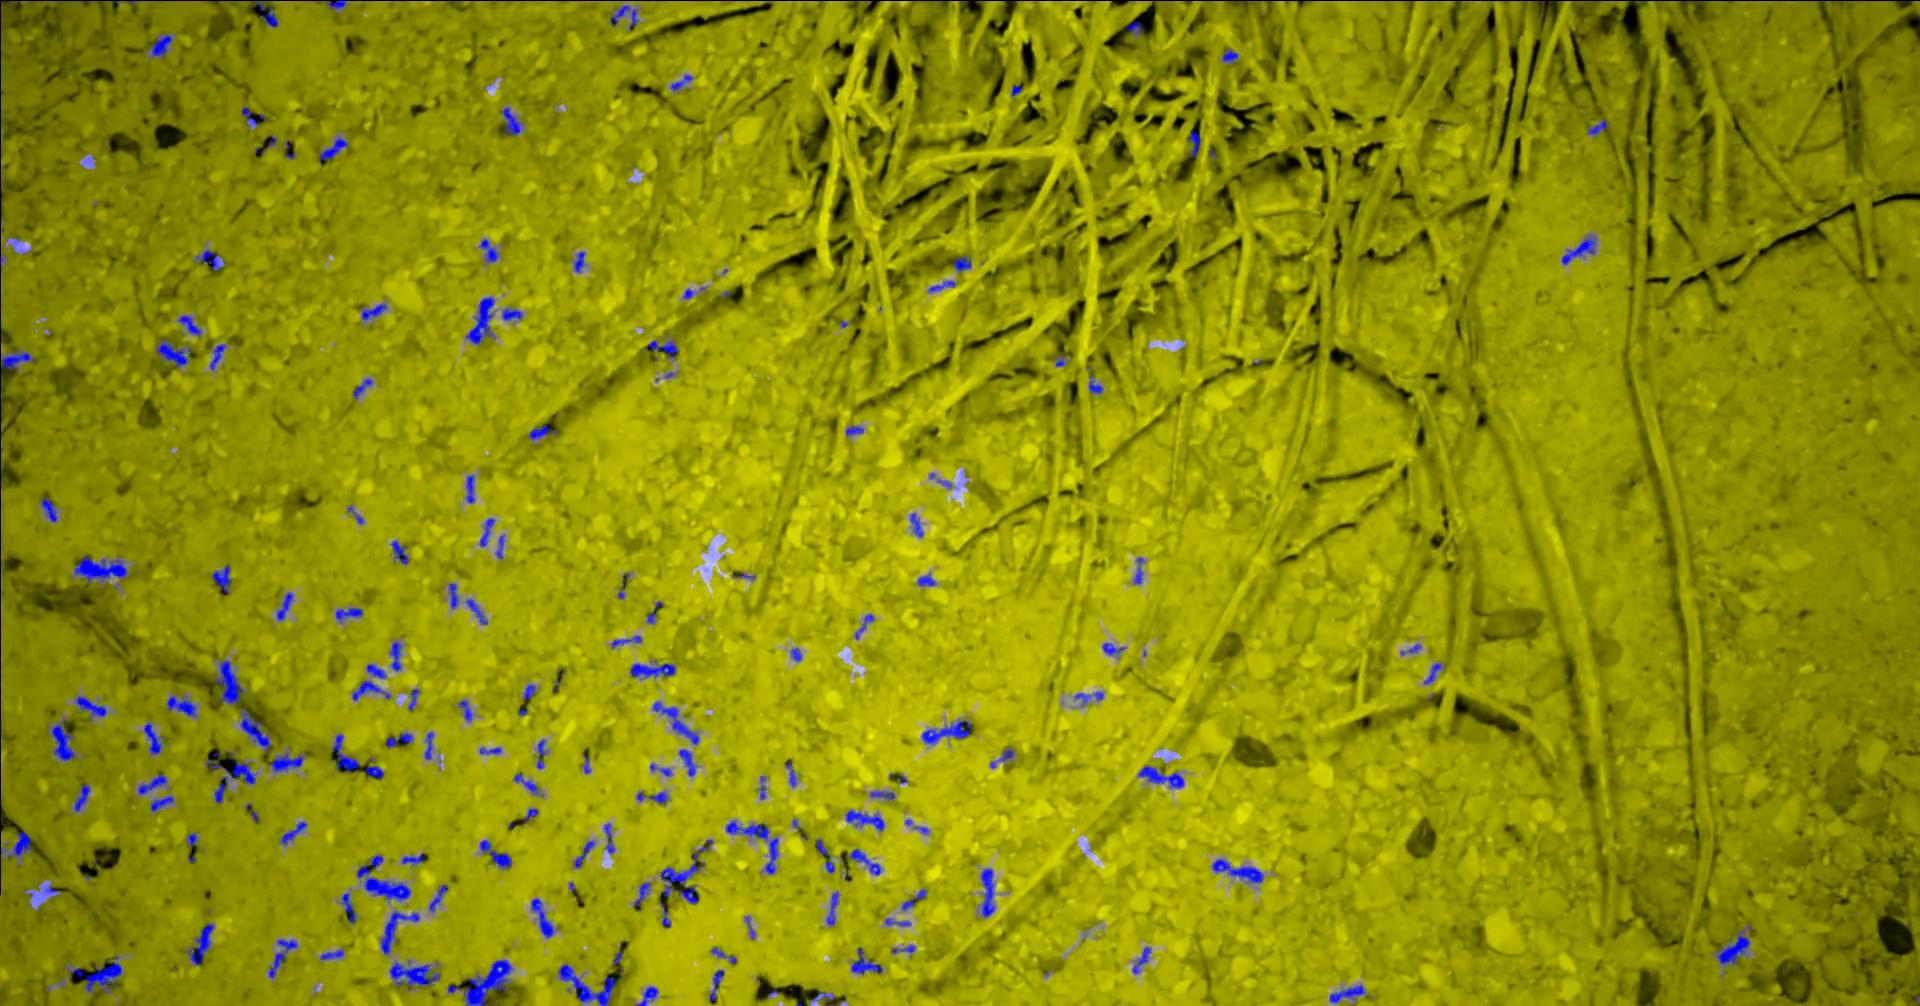ant: (662, 840, 714, 903), (207, 752, 257, 803), (560, 963, 620, 1005), (358, 855, 411, 901), (465, 959, 514, 1005), (70, 955, 124, 992), (654, 701, 700, 744), (382, 909, 422, 954), (75, 555, 130, 583), (467, 296, 497, 344), (241, 708, 272, 753), (1213, 857, 1265, 883), (217, 659, 246, 704), (391, 960, 441, 986), (1717, 931, 1752, 965), (923, 719, 971, 743), (269, 939, 298, 978), (188, 923, 215, 964), (1139, 765, 1185, 788), (52, 719, 77, 760), (333, 734, 361, 771), (1563, 235, 1597, 264), (157, 338, 192, 367), (532, 898, 555, 937), (481, 840, 513, 868), (850, 848, 883, 875), (76, 695, 108, 721), (852, 948, 884, 974), (847, 809, 886, 829), (728, 821, 770, 840), (353, 680, 391, 700), (145, 721, 168, 754), (1331, 984, 1368, 1005), (251, 0, 279, 27), (611, 4, 639, 30), (321, 136, 350, 160), (1, 349, 36, 370), (270, 751, 305, 771), (982, 868, 996, 917), (281, 821, 309, 845), (168, 695, 198, 716), (9, 831, 33, 857), (631, 663, 677, 677), (197, 249, 226, 271), (817, 840, 836, 873), (646, 339, 681, 357), (502, 105, 522, 135), (138, 774, 168, 794), (150, 33, 174, 57), (575, 840, 596, 868), (56, 0, 140, 6), (213, 564, 232, 592), (766, 836, 780, 874), (342, 892, 358, 923), (467, 600, 489, 624), (516, 774, 540, 795), (903, 889, 928, 909), (430, 884, 450, 911), (1134, 946, 1153, 973), (710, 969, 725, 1002), (179, 315, 203, 335), (856, 614, 875, 639), (278, 592, 295, 620), (681, 748, 697, 776), (75, 782, 91, 810), (635, 882, 651, 909), (827, 892, 841, 925), (481, 238, 500, 262), (712, 946, 738, 964), (530, 424, 559, 439), (362, 304, 389, 320), (211, 343, 227, 370), (243, 105, 265, 124), (392, 540, 410, 564), (481, 518, 497, 546), (42, 497, 58, 522), (364, 758, 385, 779), (637, 986, 659, 1005), (387, 732, 414, 747), (930, 279, 957, 293), (354, 379, 375, 398), (1425, 662, 1443, 683), (672, 74, 695, 90), (637, 791, 670, 803), (1190, 128, 1203, 158), (613, 635, 643, 648), (151, 795, 175, 810), (604, 822, 616, 854), (910, 512, 924, 537), (337, 607, 364, 620), (367, 663, 389, 678), (391, 641, 403, 669), (1589, 119, 1609, 135), (425, 730, 436, 760), (1103, 641, 1126, 654), (460, 699, 472, 721), (503, 307, 524, 320), (409, 688, 422, 710), (651, 763, 673, 776), (317, 0, 348, 9), (1128, 19, 1145, 34), (955, 255, 973, 271), (1135, 556, 1145, 583), (787, 760, 797, 786), (662, 901, 672, 927), (1090, 373, 1103, 392), (403, 852, 425, 864), (467, 474, 476, 503), (538, 739, 547, 768), (450, 583, 460, 608), (1223, 48, 1239, 64), (321, 949, 345, 959), (919, 573, 937, 586), (871, 790, 897, 799), (497, 533, 505, 558), (811, 991, 836, 1000), (575, 251, 585, 272), (524, 808, 538, 822), (524, 683, 537, 699), (886, 917, 912, 925), (1001, 749, 1016, 761), (481, 747, 503, 754), (847, 426, 865, 434), (761, 775, 767, 799), (893, 945, 917, 951), (792, 647, 803, 661), (188, 832, 198, 846)
